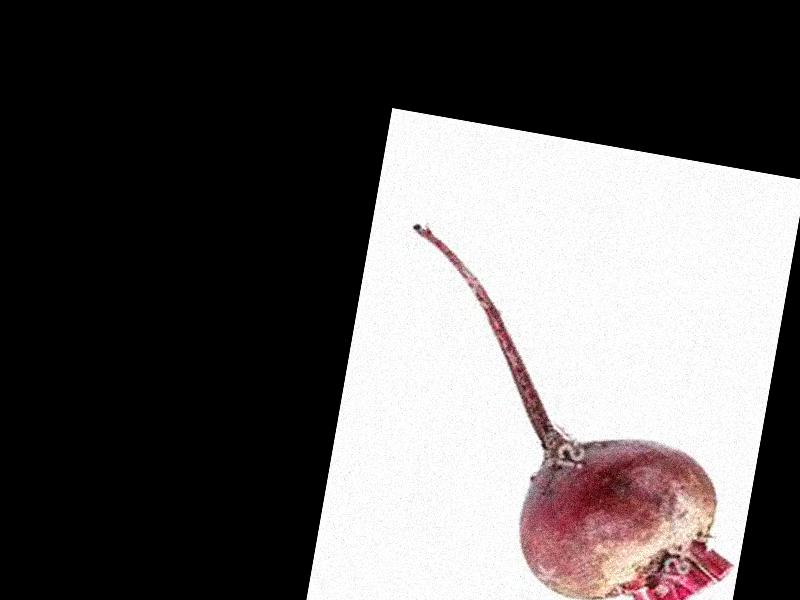Beet: (355, 223, 782, 600)
